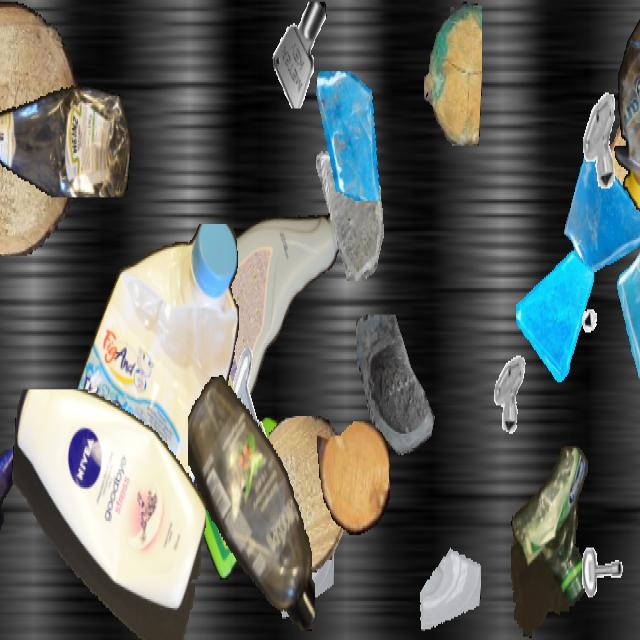glass: (353, 314, 447, 482), (563, 135, 640, 292), (516, 244, 594, 382), (313, 149, 387, 281), (313, 71, 385, 199), (75, 354, 137, 464), (419, 526, 481, 636), (277, 517, 333, 617), (611, 236, 640, 400)
metal: (221, 345, 283, 455), (271, 2, 331, 108), (569, 89, 627, 192), (576, 539, 632, 638), (483, 348, 531, 434), (579, 277, 617, 345)
plastic: (56, 224, 242, 590), (10, 390, 206, 638), (168, 203, 342, 430), (188, 372, 314, 638), (194, 416, 304, 580), (0, 76, 131, 198), (511, 443, 589, 638), (613, 2, 640, 212), (0, 450, 24, 638)
wood: (0, 2, 78, 254), (251, 416, 349, 572), (424, 2, 482, 144), (317, 421, 389, 535), (607, 62, 640, 204)
